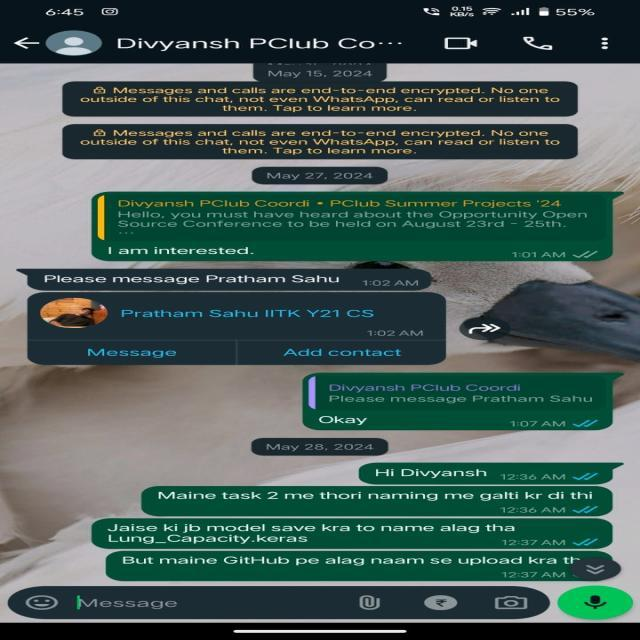scam: (34, 270, 359, 292)
